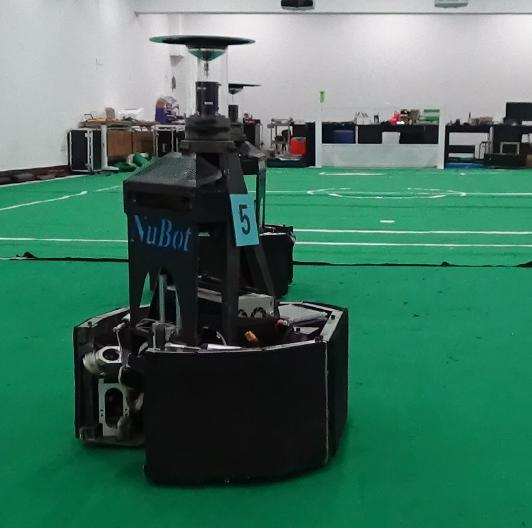robot: (68, 26, 361, 496)
